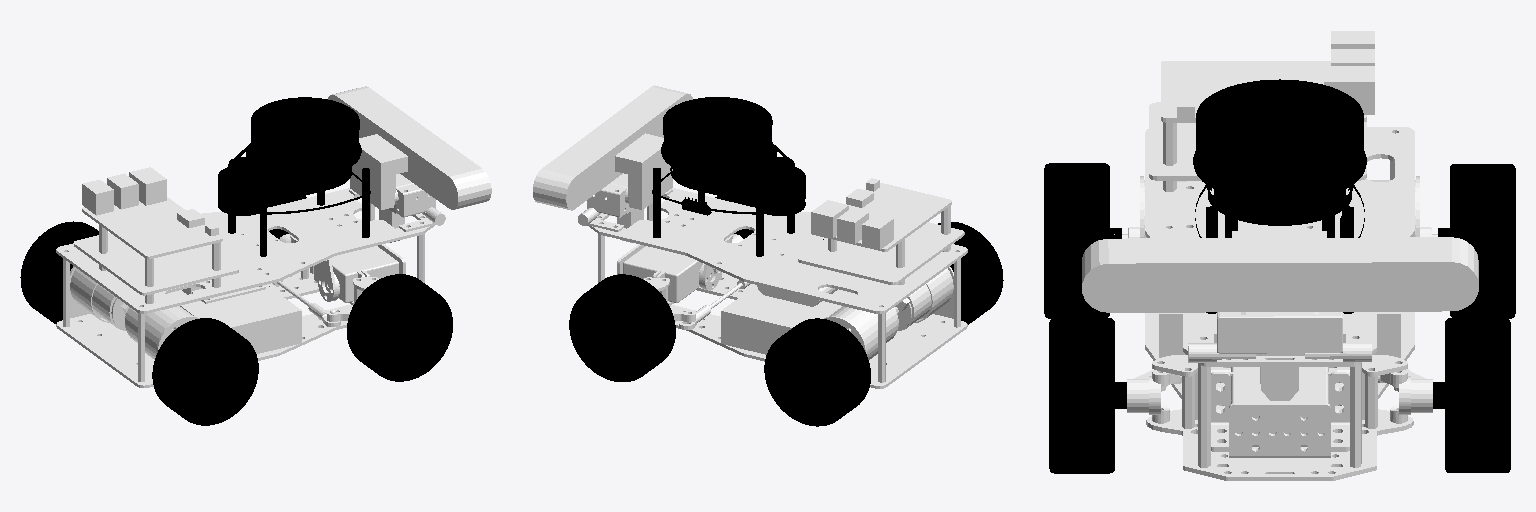
The robot description file, URDF, robot "wheeltec":
<?xml version="1.0" encoding="utf-8"?>
<!-- =================================================================================== -->
<!-- |    This document was autogenerated by xacro from mini_akm.xacro                 | -->
<!-- |    EDITING THIS FILE BY HAND IS NOT RECOMMENDED                                 | -->
<!-- =================================================================================== -->
<robot name="wheeltec">
  <!--define base_footprint-->
  <link name="base_footprint"/>
  <!--define fixed base_footprint_joint -->
  <joint name="base_footprint_joint" type="fixed">
    <origin rpy="0 0 0" xyz="0 0 0.025"/>
    <parent link="base_footprint"/>
    <child link="base_link"/>
  </joint>
  <!--define base_link -->
  <link name="base_link">
    <inertial>
      <origin rpy="0 0 0" xyz="-0.016347 0.00073329 0.026157"/>
      <mass value="1.0"/>
      <inertia ixx="0.0216666666667" ixy="0" ixz="0" iyy="0.0508333333333" iyz="0" izz="0.0308333333333"/>
    </inertial>
    <!--visual-->
    <visual>
      <origin rpy="0 0 0" xyz="0 0 0"/>
      <geometry>
        <mesh filename="package://wheeltec_description/meshes/mini_akm/base_link.STL"/>
      </geometry>
      <material name="white"/>
    </visual>
    <!--collision-->
    <collision>
      <origin rpy="0 0 0" xyz="0 0 0"/>
      <geometry>
        <mesh filename="package://wheeltec_description/meshes/mini_akm/base_link.STL"/>
      </geometry>
    </collision>
  </link>
  <!-- Defining the colors used in this robot -->
  <material name="black">
    <color rgba="0.0 0.0 0.0 1.0"/>
  </material>
  <material name="blue">
    <color rgba="0.0 0.0 0.8 1.0"/>
  </material>
  <material name="green">
    <color rgba="0.0 0.8 0.0 1.0"/>
  </material>
  <material name="grey">
    <color rgba="0.2 0.2 0.2 1.0"/>
  </material>
  <material name="white">
    <color rgba="1.0 1.0 1.0 1.0"/>
  </material>
  <!--define the base_link in Gazebo -->
  <gazebo reference="base_link">
    <material>Gazebo/Grey</material>
  </gazebo>
  <!-- Defining the control plugin used in this robot -->
  <gazebo>
    <plugin filename="libgazebo_ros_control.so" name="gazebo_ros_control">
      <robotNamespace>/wheeltec</robotNamespace>
      <robotSimType>gazebo_ros_control/DefaultRobotHWSim</robotSimType>
      <legacyModeNS>true</legacyModeNS>
    </plugin>
  </gazebo>
  <!-- rplidar joint-->
  <joint name="rplidar_joint" type="fixed">
    <origin rpy="0 0 0" xyz="0.051872 0.00011578 0.1306"/>
    <parent link="base_link"/>
    <child link="laser_link"/>
  </joint>
  <!-- camera joint-->
  <joint name="camera_frame_joint" type="fixed">
    <origin rpy="0 0 0" xyz="0.1402 0.00021887 0.093025"/>
    <parent link="base_link"/>
    <child link="camera_link"/>
  </joint>
  <joint name="imu_joint" type="fixed">
    <origin rpy="0 0 0" xyz="-0.03 0 0.06"/>
    <parent link="base_link"/>
    <child link="imu_link"/>
  </joint>
  <!-- Create laser reference frame -->
  <link name="laser_link">
    <inertial>
      <origin rpy="0 0 0" xyz="-0.016347 0.00073329 0.026157"/>
      <mass value="0.001"/>
      <inertia ixx="1.66666666667e-10" ixy="0" ixz="0" iyy="1.66666666667e-10" iyz="0" izz="1.66666666667e-10"/>
    </inertial>
    <visual>
      <origin rpy="0 0 0" xyz=" 0 0 0 "/>
      <geometry>
        <mesh filename="package://wheeltec_description/meshes/mini_akm/rplidar_link.STL"/>
      </geometry>
      <material name="black"/>
    </visual>
    <collision>
      <origin rpy="0 0 0" xyz="0 0 0"/>
      <geometry>
        <mesh filename="package://wheeltec_description/meshes/mini_akm/rplidar_link.STL"/>
      </geometry>
    </collision>
  </link>
  <gazebo reference="laser_link">
    <material>Gazebo/Black</material>
  </gazebo>
  <gazebo reference="laser_link">
    <sensor name="rplidar" type="ray">
      <pose>0 0 0 0 0 0</pose>
      <visualize>false</visualize>
      <update_rate>40</update_rate>
      <ray>
        <scan>
          <horizontal>
            <samples>720</samples>
            <resolution>1</resolution>
            <min_angle>-3.14159265359</min_angle>
            <max_angle>3.14159265359</max_angle>
          </horizontal>
        </scan>
        <range>
          <min>0.10</min>
          <max>30.0</max>
          <resolution>0.01</resolution>
        </range>
        <noise>
          <type>gaussian</type>
          <mean>0.0</mean>
          <stddev>0.0</stddev>
        </noise>
      </ray>
      <plugin filename="libgazebo_ros_laser.so" name="gazebo_rplidar">
        <topicName>/scan</topicName>
        <frameName>laser_link</frameName>
      </plugin>
    </sensor>
  </gazebo>
  <link name="imu_link">
    <inertial>
      <mass value="0.001"/>
      <origin xyz="0 0 0"/>
      <inertia ixx="0.00001" ixy="0.0" ixz="0.0" iyy="0.00001" iyz="0.0" izz="0.00001"/>
    </inertial>
    <visual>
      <origin rpy="0 0 0" xyz=" 0 0 0 "/>
      <geometry>
        <box size="0.01 0.01 0.01"/>
      </geometry>
      <material name="black"/>
    </visual>
    <collision>
      <origin rpy="0 0 0" xyz="0.0 0.0 0.0"/>
      <geometry>
        <box size="0.02 0.02 0.01"/>
      </geometry>
    </collision>
  </link>
  <gazebo reference="imu_link">
    <material>Gazebo/Black</material>
  </gazebo>
  <gazebo reference="imu_link">
    <gravity>true</gravity>
    <sensor name="imu_sensor" type="imu">
      <always_on>true</always_on>
      <update_rate>100</update_rate>
      <visualize>true</visualize>
      <topic>/imu_data</topic>
      <plugin filename="libgazebo_ros_imu_sensor.so" name="imu_plugin">
        <topicName>/imu_data</topicName>
        <bodyName>imu_link</bodyName>
        <updateRateHZ>100.0</updateRateHZ>
        <gaussianNoise>0.0</gaussianNoise>
        <xyzOffset>0 0 0</xyzOffset>
        <rpyOffset>0 0 0</rpyOffset>
        <frameName>imu_link</frameName>
      </plugin>
      <pose>0 0 0 0 0 0</pose>
    </sensor>
  </gazebo>
  <!--Defining camera_link -->
  <!-- Add mesh for camera -->
  <link name="camera_link">
    <inertial>
      <origin rpy="0 0 0" xyz="-0.016347 0.00073329 0.026157"/>
      <mass value="0.001"/>
      <inertia ixx="1.66666666667e-10" ixy="0" ixz="0" iyy="1.66666666667e-10" iyz="0" izz="1.66666666667e-10"/>
    </inertial>
    <visual>
      <origin rpy="0 0 0 " xyz="0 0 0"/>
      <geometry>
        <mesh filename="package://wheeltec_description/meshes/mini_akm/camera_link.STL"/>
      </geometry>
      <material name="white"/>
    </visual>
    <collision>
      <origin rpy="0 0 0 " xyz="0 0 0"/>
      <geometry>
        <mesh filename="package://wheeltec_description/meshes/mini_akm/camera_link.STL"/>
      </geometry>
    </collision>
  </link>
  <joint name="camera_optical_joint" type="fixed">
    <origin rpy="-1.57079632679 0 -1.57079632679" xyz="0 0 0"/>
    <parent link="camera_link"/>
    <child link="camera_frame_optical"/>
  </joint>
  <link name="camera_frame_optical"/>
  <gazebo reference="camera_link">
    <material>Gazebo/Grey</material>
    <sensor name="camera" type="depth">
      <always_on>true</always_on>
      <update_rate>20.0</update_rate>
      <camera>
        <horizontal_fov>1.04716666667</horizontal_fov>
        <image>
          <format>R8G8B8</format>
          <width>640</width>
          <height>480</height>
        </image>
        <clip>
          <near>0.05</near>
          <far>8.0</far>
        </clip>
        <noise>
          <type>gaussian</type>
          <mean>0.0</mean>
          <stddev>0.007</stddev>
        </noise>
      </camera>
      <plugin filename="libgazebo_ros_openni_kinect.so" name="astra_camera_controller">
        <cameraName>camera</cameraName>
        <alwaysOn>true</alwaysOn>
        <updateRate>10</updateRate>
        <imageTopicName>rgb/image_raw</imageTopicName>
        <depthImageTopicName>depth/image_raw</depthImageTopicName>
        <pointCloudTopicName>depth/points</pointCloudTopicName>
        <cameraInfoTopicName>rgb/camera_info</cameraInfoTopicName>
        <depthImageCameraInfoTopicName>depth/camera_info</depthImageCameraInfoTopicName>
        <frameName>camera_frame_optical</frameName>
        <baseline>0.1</baseline>
        <distortion_k1>0.0</distortion_k1>
        <distortion_k2>0.0</distortion_k2>
        <distortion_k3>0.0</distortion_k3>
        <distortion_t1>0.0</distortion_t1>
        <distortion_t2>0.0</distortion_t2>
        <pointCloudCutoff>0.4</pointCloudCutoff>
      </plugin>
    </sensor>
  </gazebo>
  <link name="right_rear_wheel_link">
    <inertial>
      <origin rpy="0 0 0" xyz="-3.98258093170512E-11 -0.00279452473049574 1.19940203602287E-11"/>
      <mass value="0.0515533105453"/>
      <inertia ixx="1.99603833653634E-05" ixy="1.47023522649957E-14" ixz="1.56178238251791E-10" iyy="3.41116766443603E-05" iyz="-1.59750652595274E-15" izz="1.99606952584451E-05"/>
    </inertial>
    <visual>
      <origin rpy="0 0 0" xyz="0 0 0"/>
      <geometry>
        <mesh filename="package://wheeltec_description/meshes/mini_akm/right_rear_wheel_link.STL"/>
      </geometry>
      <material name="black"/>
    </visual>
    <collision>
      <origin rpy="0 0 0" xyz="0 0 0"/>
      <geometry>
        <mesh filename="package://wheeltec_description/meshes/mini_akm/right_rear_wheel_link.STL"/>
      </geometry>
    </collision>
  </link>
  <link name="left_rear_wheel_link">
    <inertial>
      <origin rpy="0 0 0" xyz="3.98258093170512E-11 0.00279452473049574 1.19940203602287E-11"/>
      <mass value="0.0515533105453"/>
      <inertia ixx="1.99603833653634E-05" ixy="1.47023522649957E-14" ixz="-1.56178238251791E-10" iyy="3.41116766443603E-05" iyz="1.59750652595274E-15" izz="1.99606952584451E-05"/>
    </inertial>
    <visual>
      <origin rpy="0 0 0" xyz="0 0 0"/>
      <geometry>
        <mesh filename="package://wheeltec_description/meshes/mini_akm/left_rear_wheel_link.STL"/>
      </geometry>
      <material name="black"/>
    </visual>
    <collision>
      <origin rpy="0 0 0" xyz="0 0 0"/>
      <geometry>
        <mesh filename="package://wheeltec_description/meshes/mini_akm/left_rear_wheel_link.STL"/>
      </geometry>
    </collision>
  </link>
  <link name="right_front_wheel_link">
    <inertial>
      <origin rpy="0 0 0" xyz="1.50883194827145E-11 -0.00228176069832715 1.40150807625972E-11"/>
      <mass value="0.0515533105453"/>
      <inertia ixx="1.91351003010526E-05" ixy="-4.51400783455223E-15" ixz="-2.66123995114195E-10" iyy="3.30131998434901E-05" iyz="-4.48462029754282E-15" izz="1.91374249680472E-05"/>
    </inertial>
    <visual>
      <origin rpy="0 0 0" xyz="0 0 0"/>
      <geometry>
        <mesh filename="package://wheeltec_description/meshes/mini_akm/right_front_wheel_link.STL"/>
      </geometry>
      <material name="black"/>
    </visual>
    <collision>
      <origin rpy="0 0 0" xyz="0 0 0"/>
      <geometry>
        <mesh filename="package://wheeltec_description/meshes/mini_akm/right_front_wheel_link.STL"/>
      </geometry>
    </collision>
  </link>
  <link name="left_front_wheel_link">
    <inertial>
      <origin rpy="0 0 0" xyz="1.50882639715633E-11 0.00228176069832718 -1.40150807625972E-11"/>
      <mass value="0.0515533105453"/>
      <inertia ixx="1.91343292762451E-05" ixy="4.51397364480803E-15" ixz="9.52734291190626E-10" iyy="3.30122388976539E-05" iyz="-4.48462116122782E-15" izz="1.91372350470185E-05"/>
    </inertial>
    <visual>
      <origin rpy="0 0 0" xyz="0 0 0"/>
      <geometry>
        <mesh filename="package://wheeltec_description/meshes/mini_akm/left_front_wheel_link.STL"/>
      </geometry>
      <material name="black"/>
    </visual>
    <collision>
      <origin rpy="0 0 0" xyz="0 0 0"/>
      <geometry>
        <mesh filename="package://wheeltec_description/meshes/mini_akm/left_front_wheel_link.STL"/>
      </geometry>
    </collision>
  </link>
  <joint name="right_rear_wheel_joint" type="continuous">
    <origin rpy="0 0 0" xyz="-0.069152 -0.083 0.0165"/>
    <parent link="base_link"/>
    <child link="right_rear_wheel_link"/>
    <axis rpy="0 0 0" xyz="0 1 0"/>
    <limit effort="3.9" velocity="38.70"/>
  </joint>
  <joint name="left_rear_wheel_joint" type="continuous">
    <origin rpy="0 0 0" xyz="-0.069152 0.083 0.0165"/>
    <parent link="base_link"/>
    <child link="left_rear_wheel_link"/>
    <axis rpy="0 0 0" xyz="0 1 0"/>
    <limit effort="3.9" velocity="38.70"/>
  </joint>
  <!--front axle carrier-->
  <link name="right_front_axle_carrier">
    <inertial>
      <mass value="0.01"/>
      <inertia ixx="0.001" ixy="0" ixz="0" iyy="0.001" iyz="0" izz="0.001"/>
    </inertial>
  </link>
  <joint name="right_front_wheel_joint" type="continuous">
    <origin rpy="0 0 0" xyz="0 0 0"/>
    <parent link="right_front_axle_carrier"/>
    <child link="right_front_wheel_link"/>
    <axis rpy="0 0 0" xyz="0 1 0"/>
    <limit effort="3.9" velocity="36.92"/>
  </joint>
  <joint name="right_steering_joint" type="revolute">
    <origin rpy="0 0 0" xyz="0.074098 -0.080997 0.013"/>
    <parent link="base_link"/>
    <child link="right_front_axle_carrier"/>
    <axis xyz="0 0 1"/>
    <limit effort="0.045" lower="-0.523281" upper="0.523281" velocity="4.5"/>
  </joint>
  <!--front axle carrier-->
  <link name="left_front_axle_carrier">
    <inertial>
      <mass value="0.01"/>
      <inertia ixx="0.001" ixy="0" ixz="0" iyy="0.001" iyz="0" izz="0.001"/>
    </inertial>
  </link>
  <joint name="left_front_wheel_joint" type="continuous">
    <origin rpy="0 0 0" xyz="0 0 0"/>
    <parent link="left_front_axle_carrier"/>
    <child link="left_front_wheel_link"/>
    <axis rpy="0 0 0" xyz="0 1 0"/>
    <limit effort="3.9" velocity="36.92"/>
  </joint>
  <joint name="left_steering_joint" type="revolute">
    <origin rpy="0 0 0" xyz="0.074098 0.081003 0.013"/>
    <parent link="base_link"/>
    <child link="left_front_axle_carrier"/>
    <axis xyz="0 0 1"/>
    <limit effort="0.045" lower="-0.523281" upper="0.523281" velocity="4.5"/>
  </joint>
  <gazebo reference="right_rear_wheel_link">
    <material>Gazebo/Black</material>
    <mu1>40</mu1>
    <mu2>40</mu2>
  </gazebo>
  <transmission name="right_rear_wheel_joint_trans">
    <type>transmission_interface/SimpleTransmission</type>
    <joint name="right_rear_wheel_joint">
      <hardwareInterface>hardware_interface/VelocityJointInterface</hardwareInterface>
    </joint>
    <actuator name="right_rear_wheel_joint_motor">
      <hardwareInterface>hardware_interface/VelocityJointInterface</hardwareInterface>
      <mechanicalReduction>1</mechanicalReduction>
    </actuator>
  </transmission>
  <gazebo reference="left_rear_wheel_link">
    <material>Gazebo/Black</material>
    <mu1>40</mu1>
    <mu2>40</mu2>
  </gazebo>
  <transmission name="left_rear_wheel_joint_trans">
    <type>transmission_interface/SimpleTransmission</type>
    <joint name="left_rear_wheel_joint">
      <hardwareInterface>hardware_interface/VelocityJointInterface</hardwareInterface>
    </joint>
    <actuator name="left_rear_wheel_joint_motor">
      <hardwareInterface>hardware_interface/VelocityJointInterface</hardwareInterface>
      <mechanicalReduction>1</mechanicalReduction>
    </actuator>
  </transmission>
  <gazebo reference="right_front_wheel_link">
    <material>Gazebo/Black</material>
    <mu1>40</mu1>
    <mu2>40</mu2>
  </gazebo>
  <transmission name="right_front_wheel_joint_trans">
    <type>transmission_interface/SimpleTransmission</type>
    <joint name="right_front_wheel_joint">
      <hardwareInterface>hardware_interface/VelocityJointInterface</hardwareInterface>
    </joint>
    <actuator name="right_front_wheel_joint_motor">
      <hardwareInterface>hardware_interface/VelocityJointInterface</hardwareInterface>
      <mechanicalReduction>1</mechanicalReduction>
    </actuator>
  </transmission>
  <gazebo reference="left_front_wheel_link">
    <material>Gazebo/Black</material>
    <mu1>40</mu1>
    <mu2>40</mu2>
  </gazebo>
  <transmission name="left_front_wheel_joint_trans">
    <type>transmission_interface/SimpleTransmission</type>
    <joint name="left_front_wheel_joint">
      <hardwareInterface>hardware_interface/VelocityJointInterface</hardwareInterface>
    </joint>
    <actuator name="left_front_wheel_joint_motor">
      <hardwareInterface>hardware_interface/VelocityJointInterface</hardwareInterface>
      <mechanicalReduction>1</mechanicalReduction>
    </actuator>
  </transmission>
  <transmission name="right_steering_trans">
    <type>transmission_interface/SimpleTransmission</type>
    <joint name="right_steering_joint">
      <hardwareInterface>hardware_interface/PositionJointInterface</hardwareInterface>
    </joint>
    <actuator name="right_steering_act">
      <hardwareInterface>hardware_interface/PositionJointInterface</hardwareInterface>
      <mechanicalReduction>1</mechanicalReduction>
    </actuator>
  </transmission>
  <transmission name="left_steering_trans">
    <type>transmission_interface/SimpleTransmission</type>
    <joint name="left_steering_joint">
      <hardwareInterface>hardware_interface/PositionJointInterface</hardwareInterface>
    </joint>
    <actuator name="left_steering_act">
      <hardwareInterface>hardware_interface/PositionJointInterface</hardwareInterface>
      <mechanicalReduction>1</mechanicalReduction>
    </actuator>
  </transmission>
</robot>

--- Facts derived from the render (not from the file) ---
Views: 3 orthographic renders of the robot side by side, from view 1: azimuth 30°, elevation 25°; view 2: azimuth 150°, elevation 25°; view 3: azimuth 270°, elevation 25°.
Model wheeltec with 12 links and 11 joints (2 revolute, 4 continuous, 5 fixed), rooted at base_footprint, posed every joint at zero.
Visible links, largest first — view 1: base_link, laser_link, camera_link, right_rear_wheel_link, right_front_wheel_link, left_rear_wheel_link; view 2: base_link, laser_link, camera_link, left_rear_wheel_link, left_front_wheel_link, right_rear_wheel_link; view 3: base_link, camera_link, laser_link, right_front_wheel_link, left_front_wheel_link, right_rear_wheel_link, left_rear_wheel_link.
Boxes of the visible links, bbox=[...] form: base_link: bbox=[56, 167, 434, 387]; laser_link: bbox=[218, 97, 370, 256]; camera_link: bbox=[328, 86, 491, 242]; right_rear_wheel_link: bbox=[152, 318, 258, 425]; right_front_wheel_link: bbox=[347, 274, 452, 381]; left_rear_wheel_link: bbox=[20, 221, 98, 323]; base_link: bbox=[587, 178, 967, 388]; laser_link: bbox=[652, 97, 805, 256]; camera_link: bbox=[533, 85, 692, 242]; left_rear_wheel_link: bbox=[764, 318, 870, 426]; left_front_wheel_link: bbox=[569, 274, 675, 381]; right_rear_wheel_link: bbox=[938, 222, 1003, 324]; base_link: bbox=[1114, 31, 1437, 480]; camera_link: bbox=[1082, 231, 1478, 400]; laser_link: bbox=[1193, 79, 1366, 313]; right_front_wheel_link: bbox=[1049, 318, 1126, 473]; left_front_wheel_link: bbox=[1433, 318, 1510, 472]; right_rear_wheel_link: bbox=[1044, 163, 1121, 318]; left_rear_wheel_link: bbox=[1438, 164, 1515, 318].
Size in the robot's own frame: 0.2421 by 0.194 by 0.1496 metres.
7 mesh visuals loaded from 7 distinct referenced files (7 binary STL).
